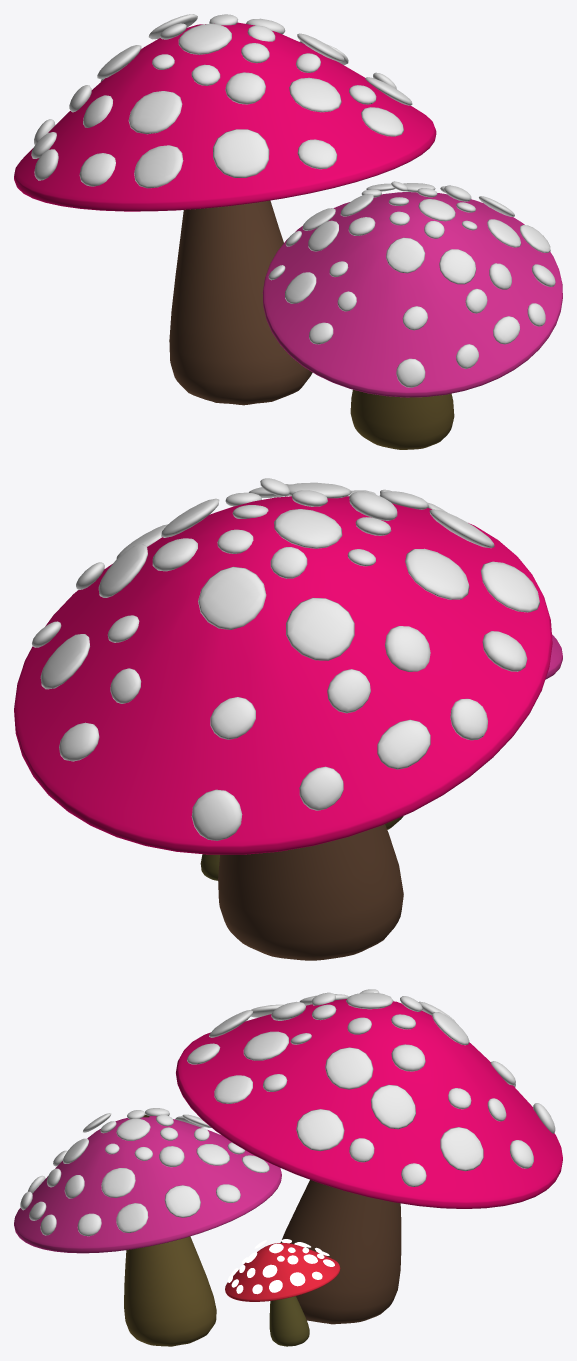
File: Mushrooms.fbx
3 views of the same model, one above another, from view 1: azimuth 30°, elevation 25°; view 2: azimuth 150°, elevation 25°; view 3: azimuth 270°, elevation 25° (orthographic). The views are drawn at different scales.
Visible parts, largest first — view 1: Mushrooms; view 2: Mushrooms; view 3: Mushrooms.
Boxes of the visible parts, x1=… form: Mushrooms: x1=14, y1=14, x2=562, y2=449; Mushrooms: x1=14, y1=478, x2=562, y2=960; Mushrooms: x1=14, y1=989, x2=562, y2=1346.
Size of the model in its own units: 111 by 97.26 by 158.
